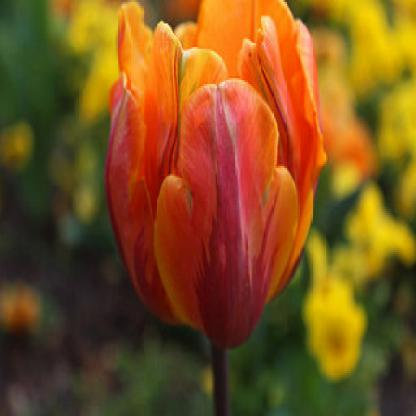TULIP: (91, 3, 352, 374)
